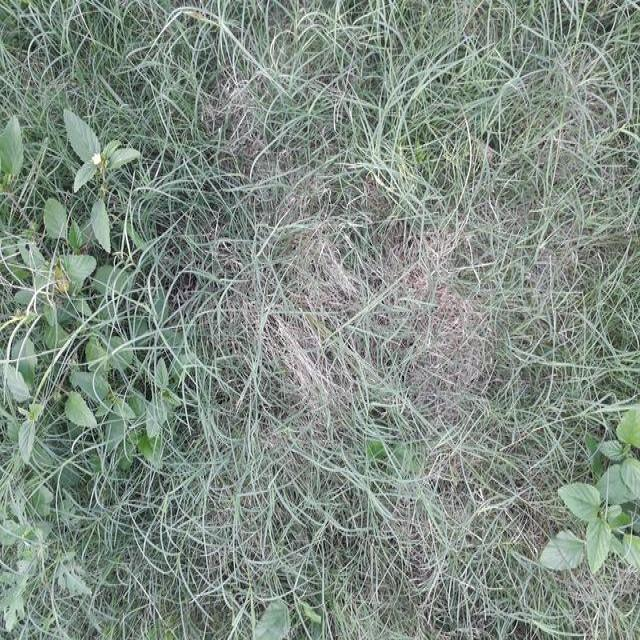weed: (0, 98, 170, 462), (559, 402, 640, 590)
